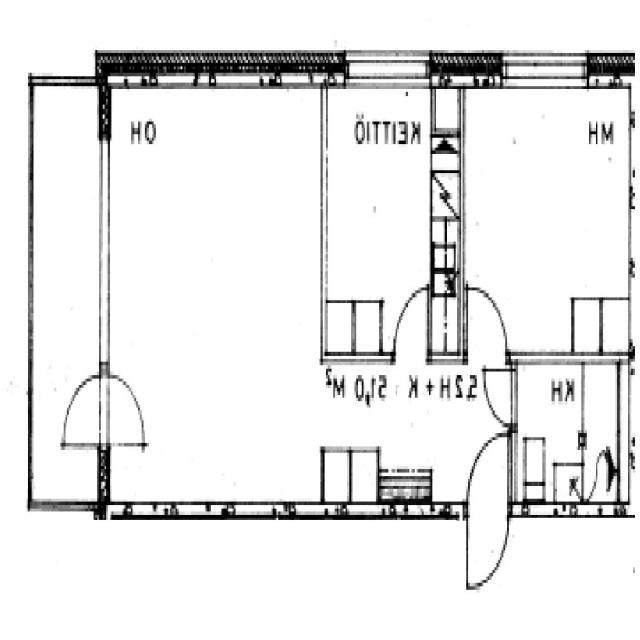door: (51, 376, 110, 445), (97, 376, 155, 445), (467, 502, 508, 582), (467, 439, 508, 519), (468, 293, 507, 363), (476, 370, 518, 425), (394, 302, 427, 363)
